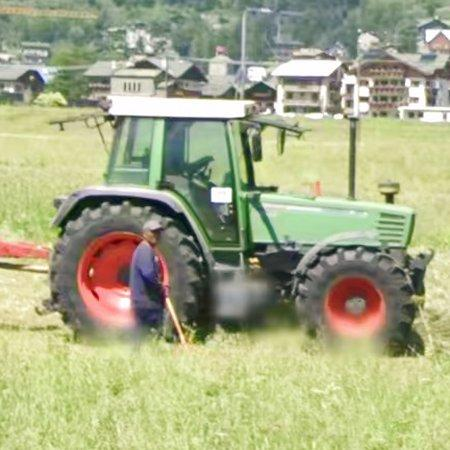tractors: (50, 98, 433, 343)
